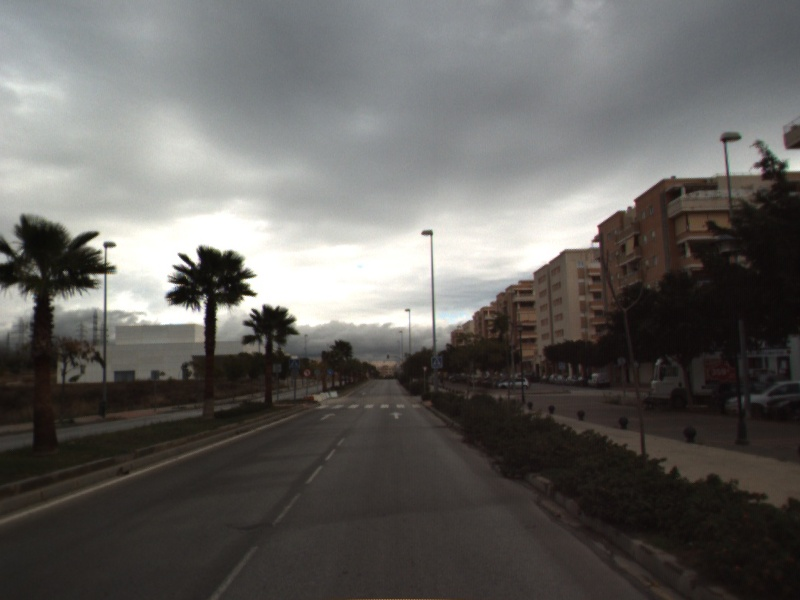STRAIGHT: (318, 410, 338, 422), (387, 409, 405, 421)
